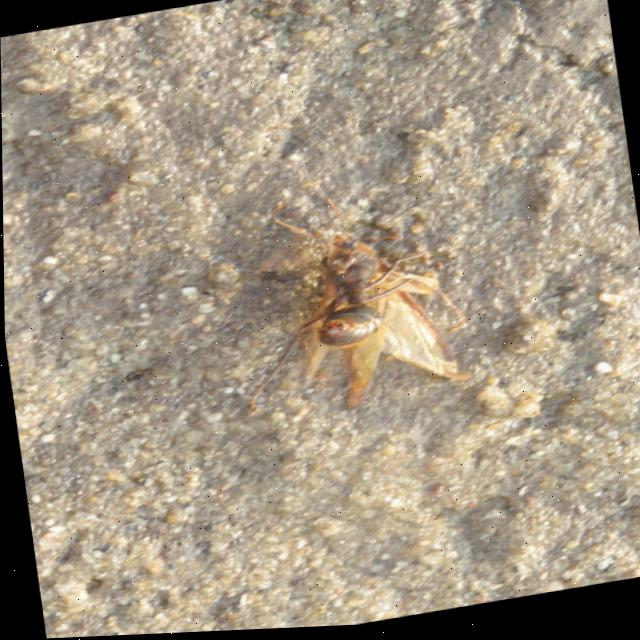Dead-Male-Alate: (221, 181, 477, 430)
